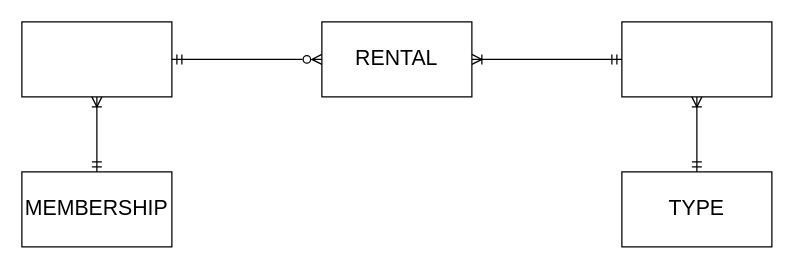
Image size: 794x269. Some labels were removed from this diagram. Each missing label, with the centre of its shape:
LOCKER: (696,59)
MEMBER: (96,59)
